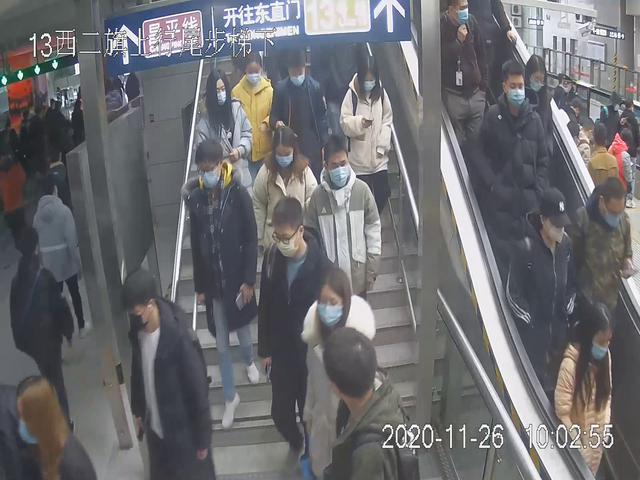person: (181, 138, 266, 430), (259, 192, 334, 480), (121, 262, 216, 480), (301, 136, 385, 343), (505, 181, 578, 418), (472, 56, 555, 263), (296, 263, 372, 480), (192, 66, 258, 274), (572, 176, 639, 368), (268, 41, 333, 219), (552, 300, 615, 480), (340, 53, 397, 246), (435, 1, 492, 186), (222, 47, 279, 219)
